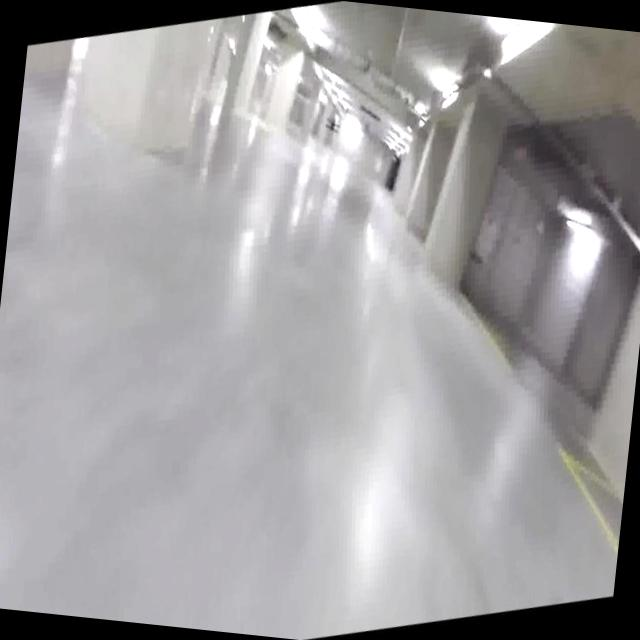drone: (319, 100, 346, 145)
